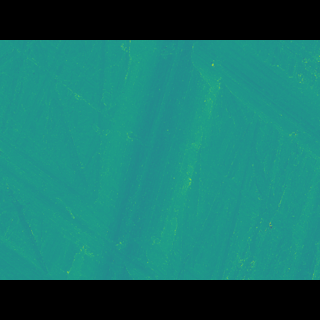Loch: (0, 140, 174, 251), (195, 68, 320, 164)
